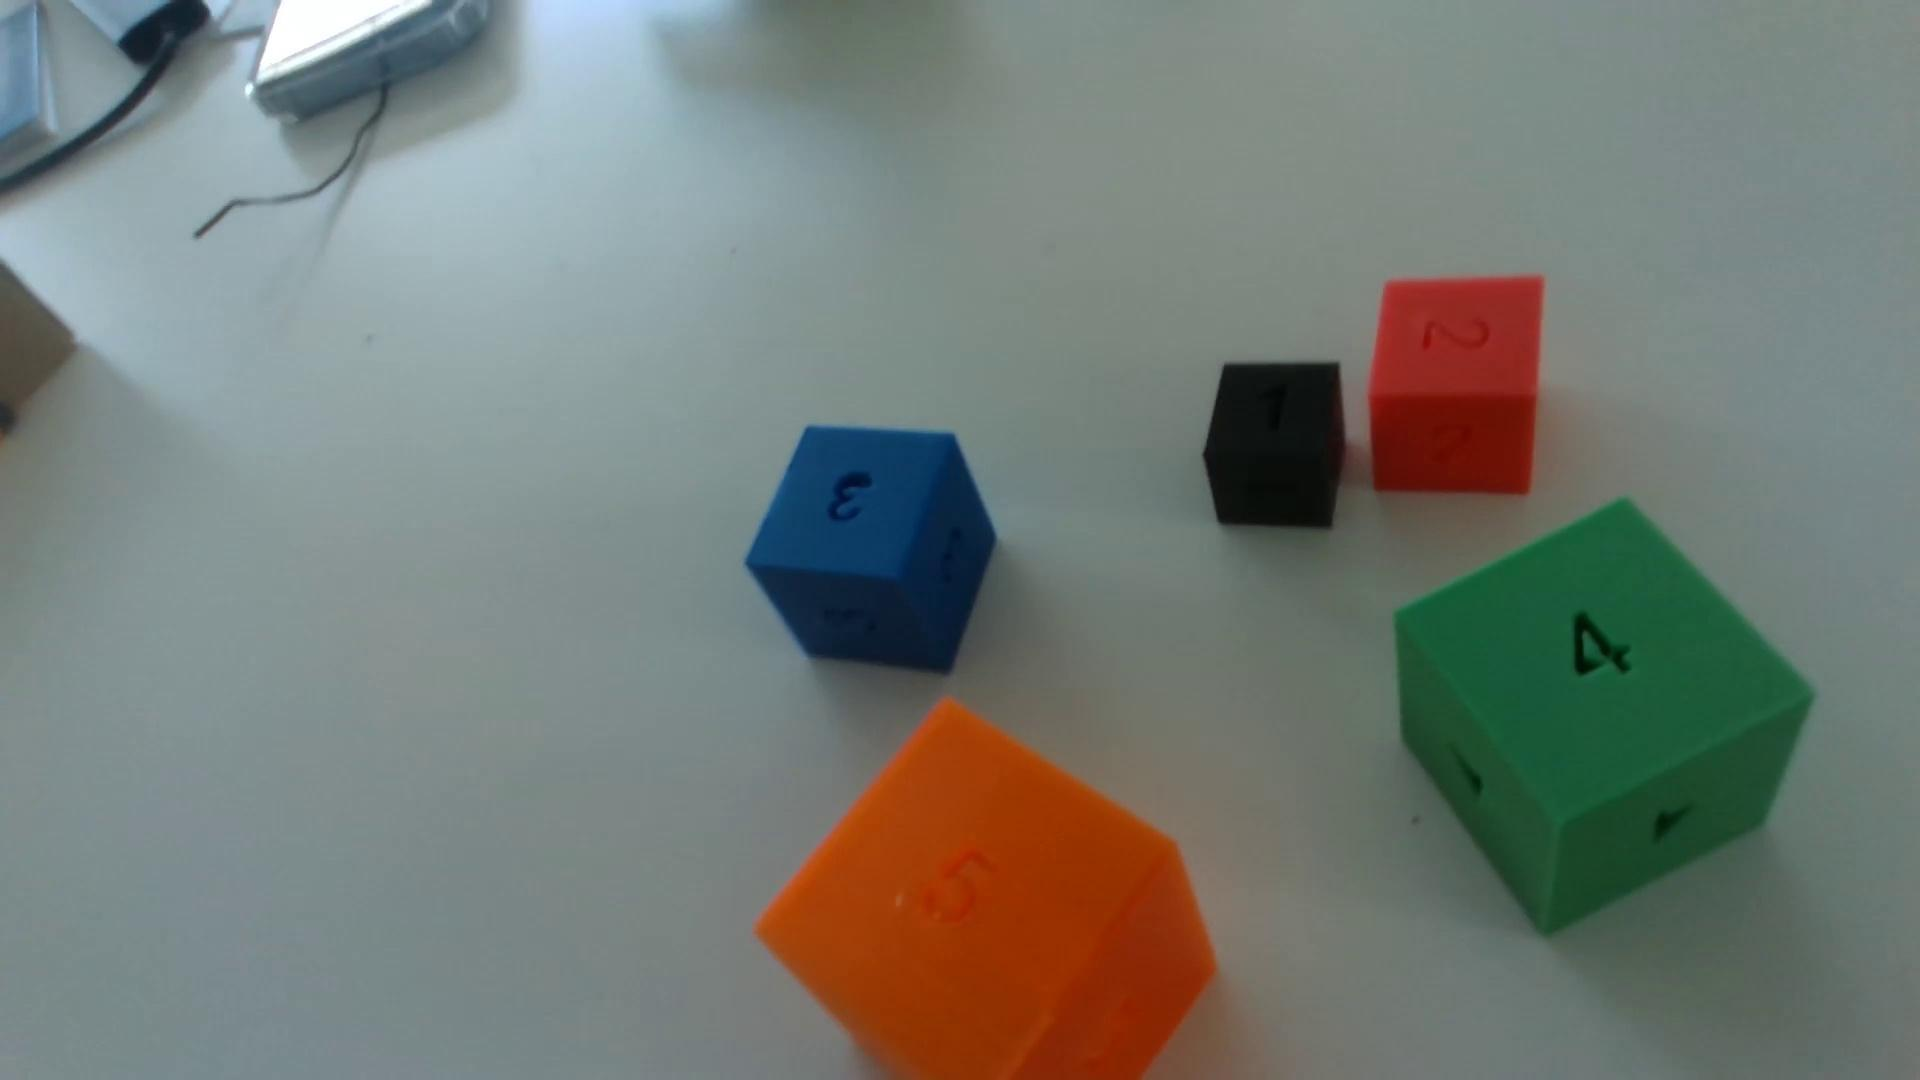black: (1203, 363, 1345, 530)
blue: (746, 426, 996, 674)
green: (1395, 501, 1813, 934)
orange: (756, 702, 1215, 1080)
red: (1367, 276, 1544, 496)
